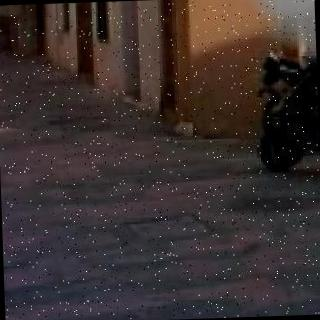smoke: (236, 0, 320, 161)
